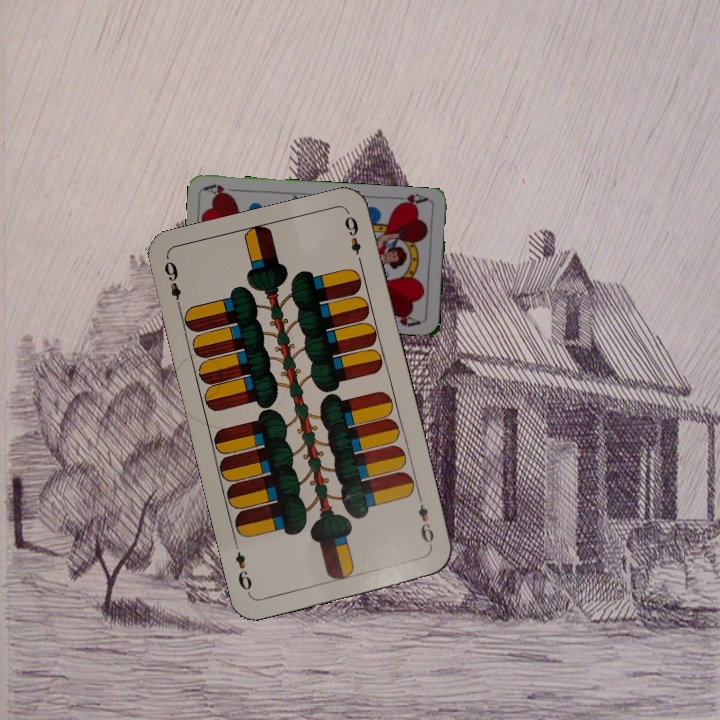E9: (160, 257, 184, 314), (414, 492, 437, 551)
HA: (391, 190, 431, 210)
